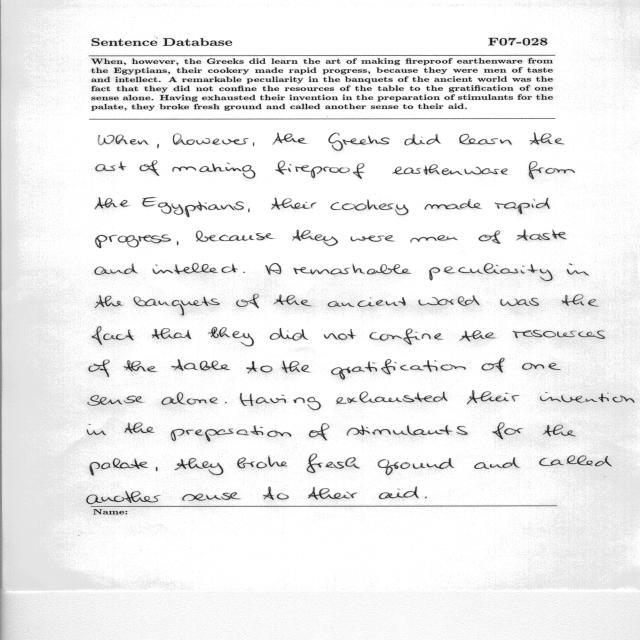word: (331, 359, 466, 380), (429, 263, 553, 281), (142, 198, 244, 218), (171, 425, 291, 442), (275, 160, 365, 179), (134, 297, 220, 316), (336, 392, 448, 405), (240, 393, 321, 410), (173, 163, 256, 179), (293, 264, 411, 275), (378, 458, 454, 475), (392, 165, 508, 176), (369, 328, 443, 345), (347, 425, 468, 435), (331, 200, 409, 215), (329, 133, 390, 151), (90, 458, 148, 476), (540, 392, 634, 403), (307, 454, 360, 473), (95, 235, 171, 248), (87, 491, 160, 504), (152, 263, 238, 274), (173, 133, 248, 145), (495, 198, 550, 214), (208, 327, 254, 346), (196, 231, 274, 242), (175, 458, 224, 475), (529, 161, 575, 179), (513, 330, 605, 339), (539, 456, 612, 467), (92, 326, 134, 345), (328, 297, 406, 307), (161, 392, 218, 405), (467, 391, 519, 405), (293, 230, 338, 246), (171, 359, 230, 371), (419, 295, 480, 306), (308, 487, 357, 500), (424, 199, 481, 210), (88, 395, 144, 406), (237, 457, 287, 469), (459, 134, 512, 145), (516, 230, 567, 241), (474, 457, 520, 469), (182, 492, 241, 501), (95, 263, 138, 275), (98, 135, 149, 145), (493, 423, 523, 440), (271, 198, 316, 209), (270, 328, 308, 341), (379, 487, 419, 499), (562, 295, 599, 307), (152, 328, 191, 339), (530, 133, 565, 145), (273, 133, 307, 145), (95, 198, 129, 210), (274, 295, 311, 306), (405, 134, 441, 145), (459, 330, 495, 341), (124, 360, 157, 372), (411, 235, 458, 243), (95, 296, 123, 309), (282, 360, 310, 373), (543, 425, 576, 436), (89, 360, 110, 377), (482, 358, 505, 373), (324, 329, 355, 340), (309, 424, 329, 441), (263, 487, 289, 500), (125, 423, 155, 434), (236, 294, 259, 308), (500, 298, 539, 306), (247, 361, 273, 373), (351, 235, 395, 242), (479, 230, 501, 244), (140, 160, 159, 176), (96, 162, 126, 172), (522, 363, 561, 370), (567, 264, 589, 276), (87, 424, 106, 435), (266, 263, 282, 275), (157, 144, 159, 148), (248, 209, 250, 212), (253, 142, 254, 146), (177, 241, 178, 245), (225, 402, 227, 404), (156, 467, 157, 471), (425, 497, 427, 499), (243, 272, 245, 273)
